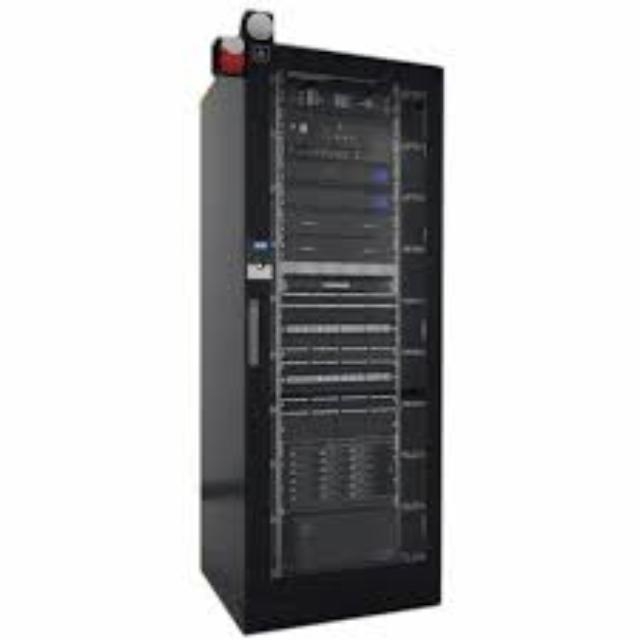Server: (196, 25, 444, 640)
